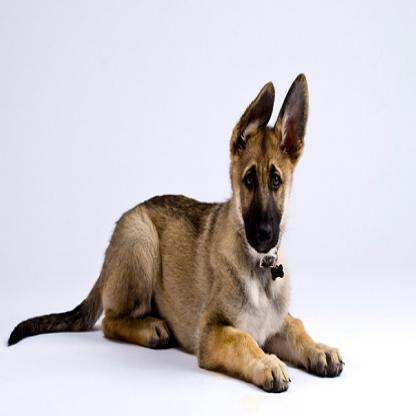dog: (13, 71, 342, 391)
